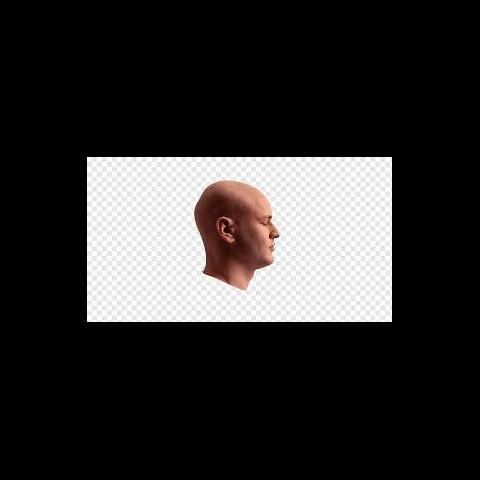closed: (254, 213, 280, 229)
